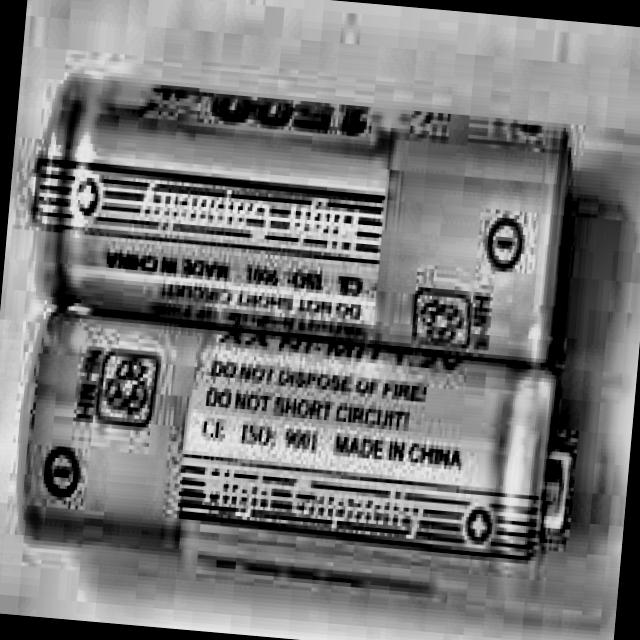Battery: (11, 306, 585, 624), (26, 74, 574, 356)
